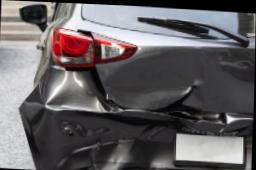Bumper: (20, 101, 253, 170)
Dickey: (98, 65, 239, 119)
